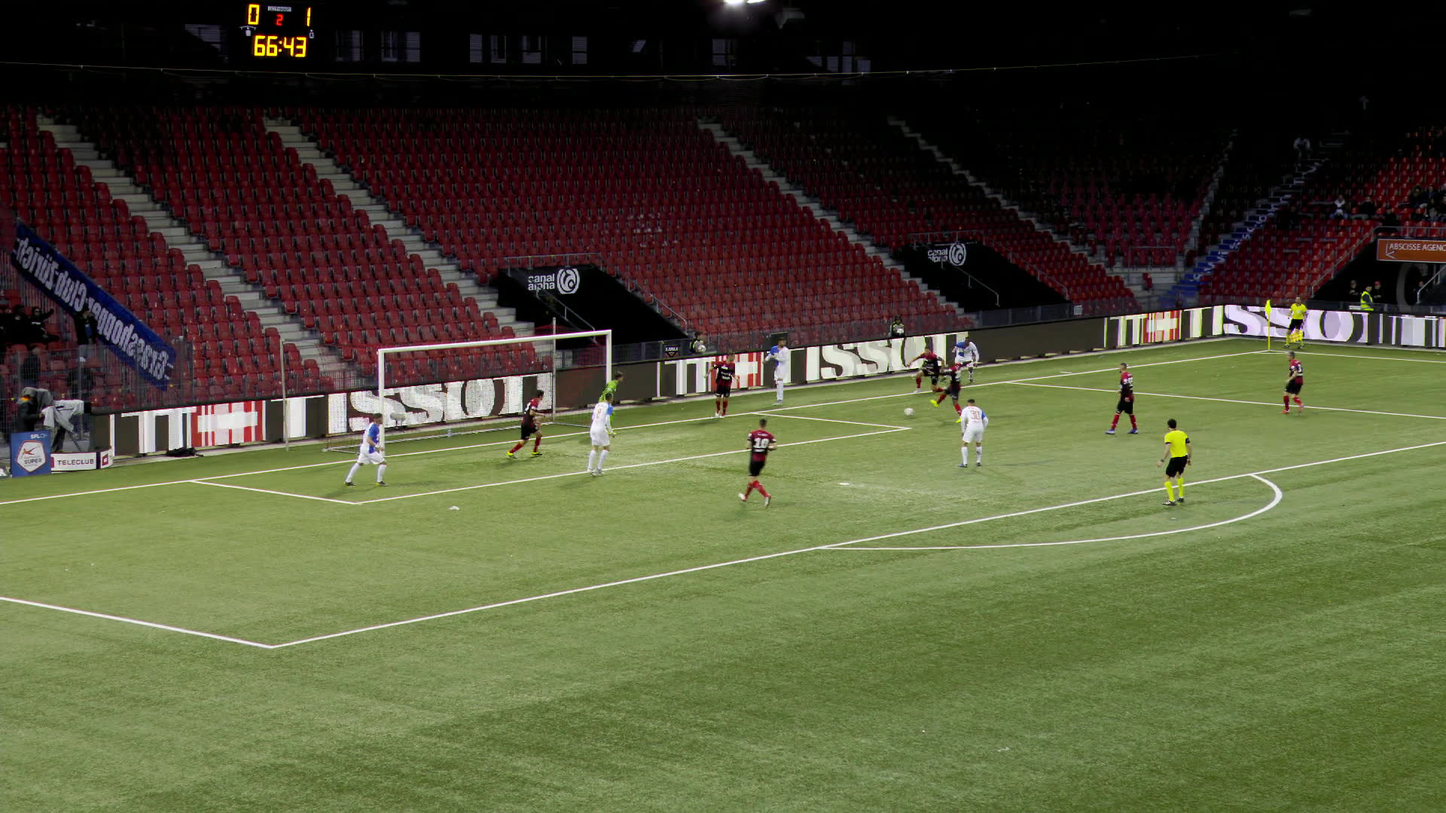ball: (898, 407, 907, 415)
player: (737, 418, 776, 508), (343, 413, 387, 486), (506, 390, 544, 458), (585, 391, 615, 477), (1104, 361, 1137, 434), (956, 398, 988, 467), (706, 349, 738, 416), (906, 346, 949, 392), (930, 358, 960, 422), (762, 336, 788, 405), (599, 373, 624, 434), (1280, 350, 1302, 413), (952, 336, 978, 382)
referee: (1156, 419, 1191, 505), (1282, 296, 1307, 349)
